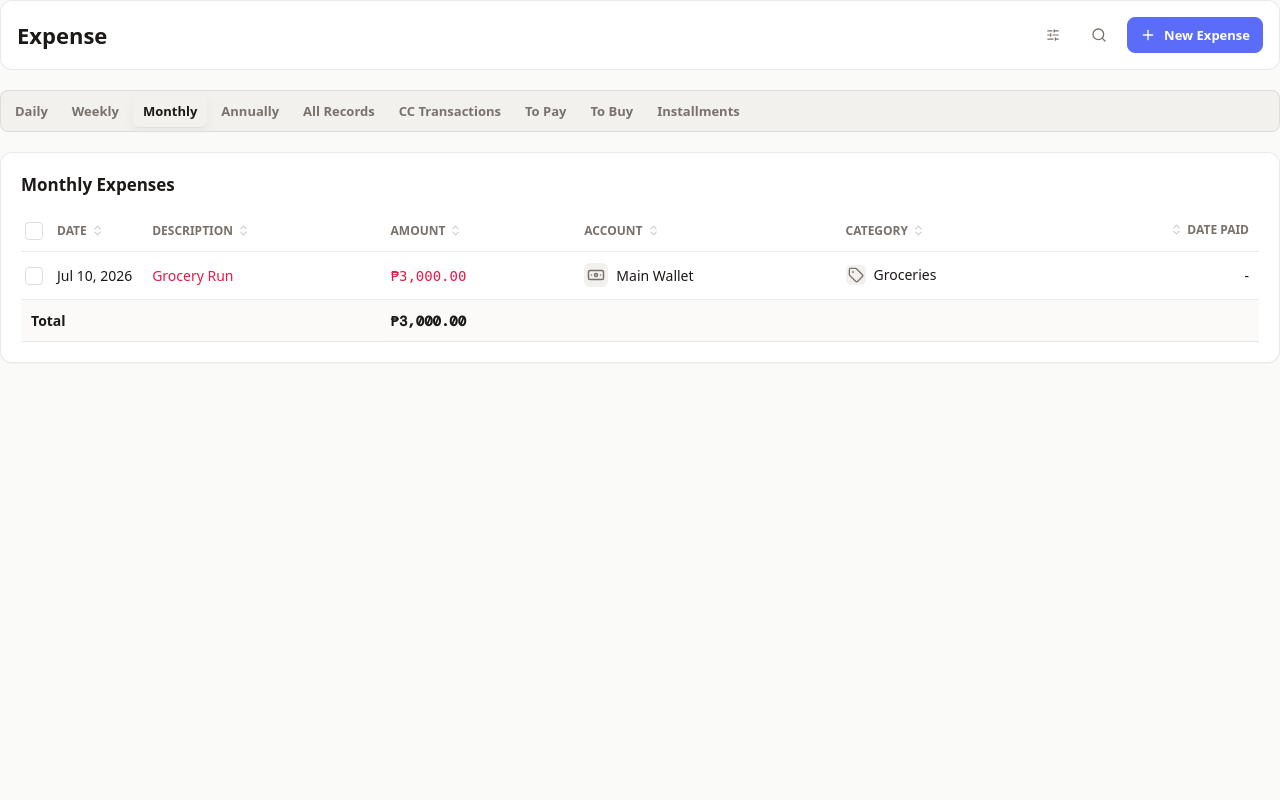
Test: Expense bulk actions › edit opens the mass-edit modal
This screenshot has width=1280, height=800.
Click the button named "Select row" at {"x": 34, "y": 276}, box [25,266,43,284]
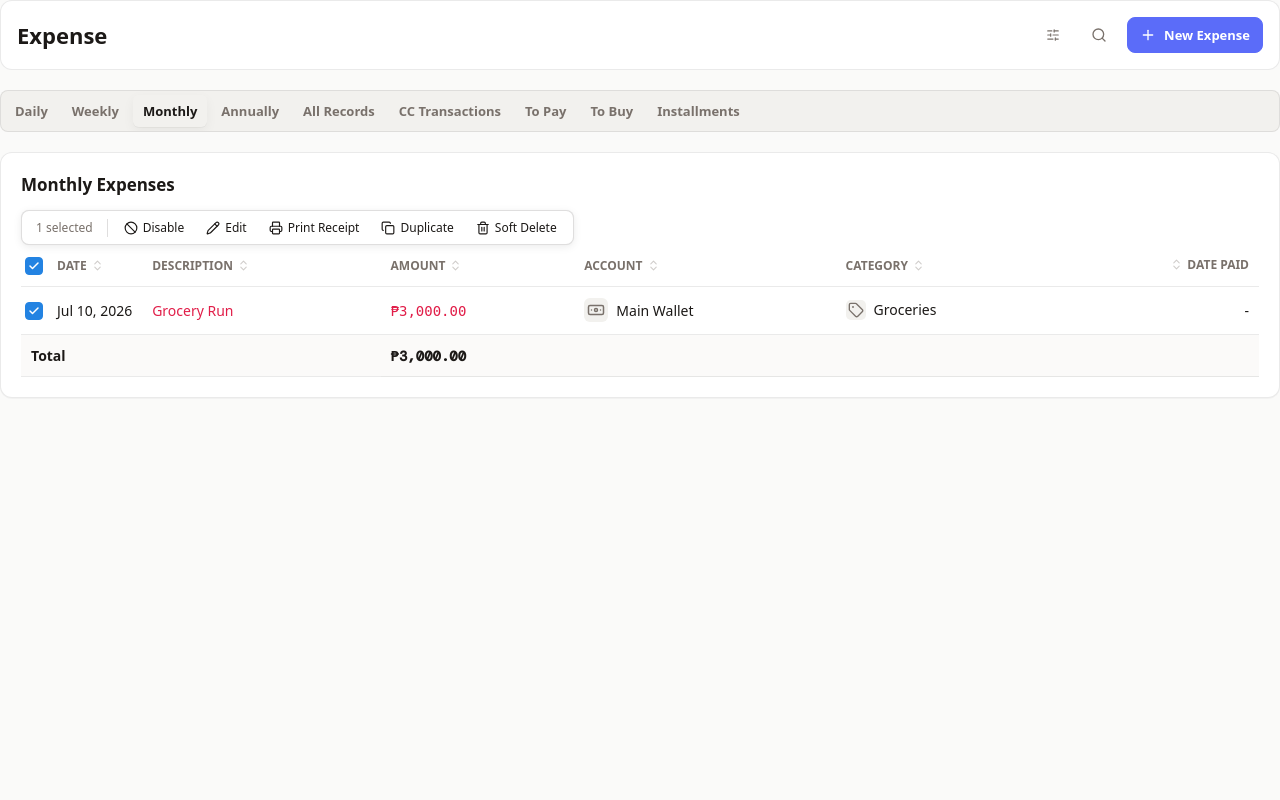
Now the text "1 selected" is shown, box [36,219,93,236]
Click the button "Edit" at {"x": 226, "y": 228}, box [196,215,257,240]
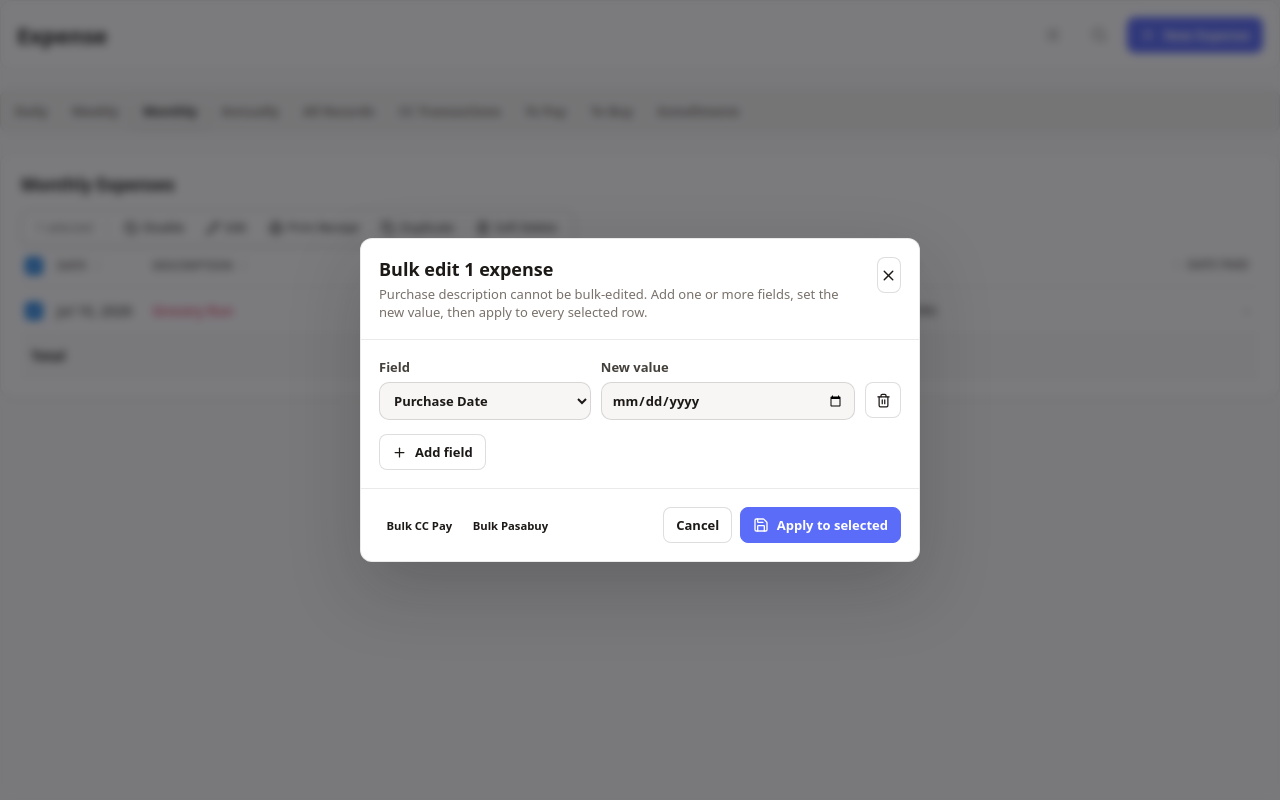
Now the heading "Bulk edit 1 expense" is shown, box [379,257,553,281]
